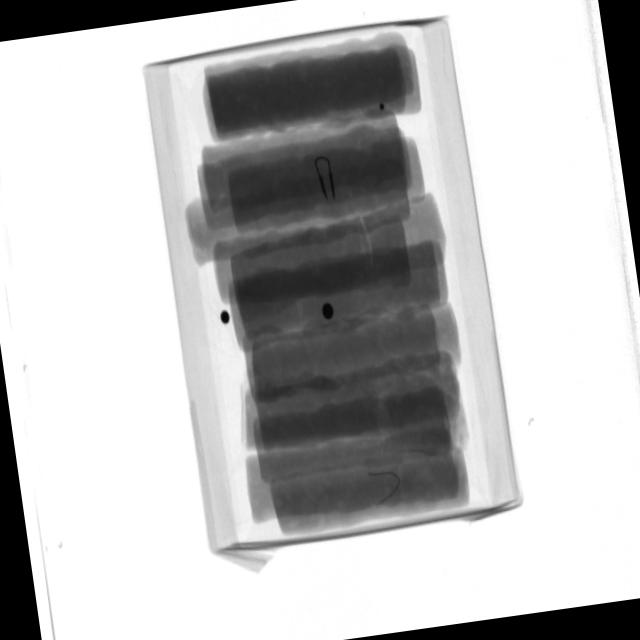ym: (369, 465, 404, 507), (315, 150, 339, 202), (322, 304, 336, 323), (221, 311, 233, 327), (379, 103, 387, 112)
